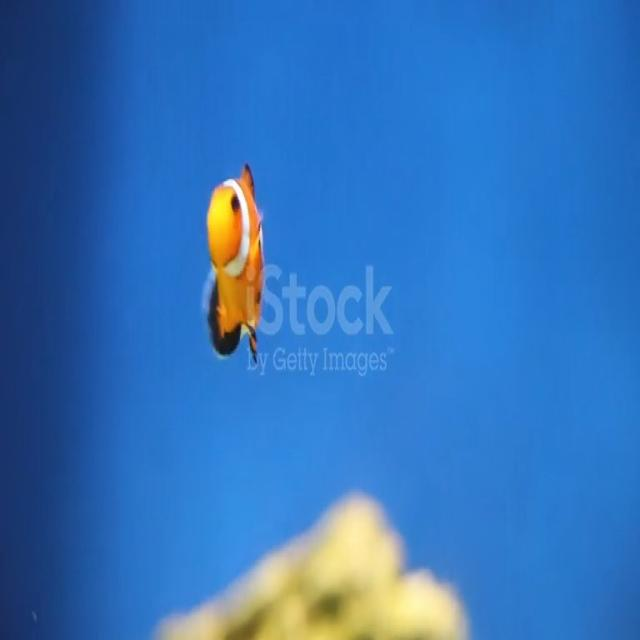fish: (203, 156, 268, 382)
